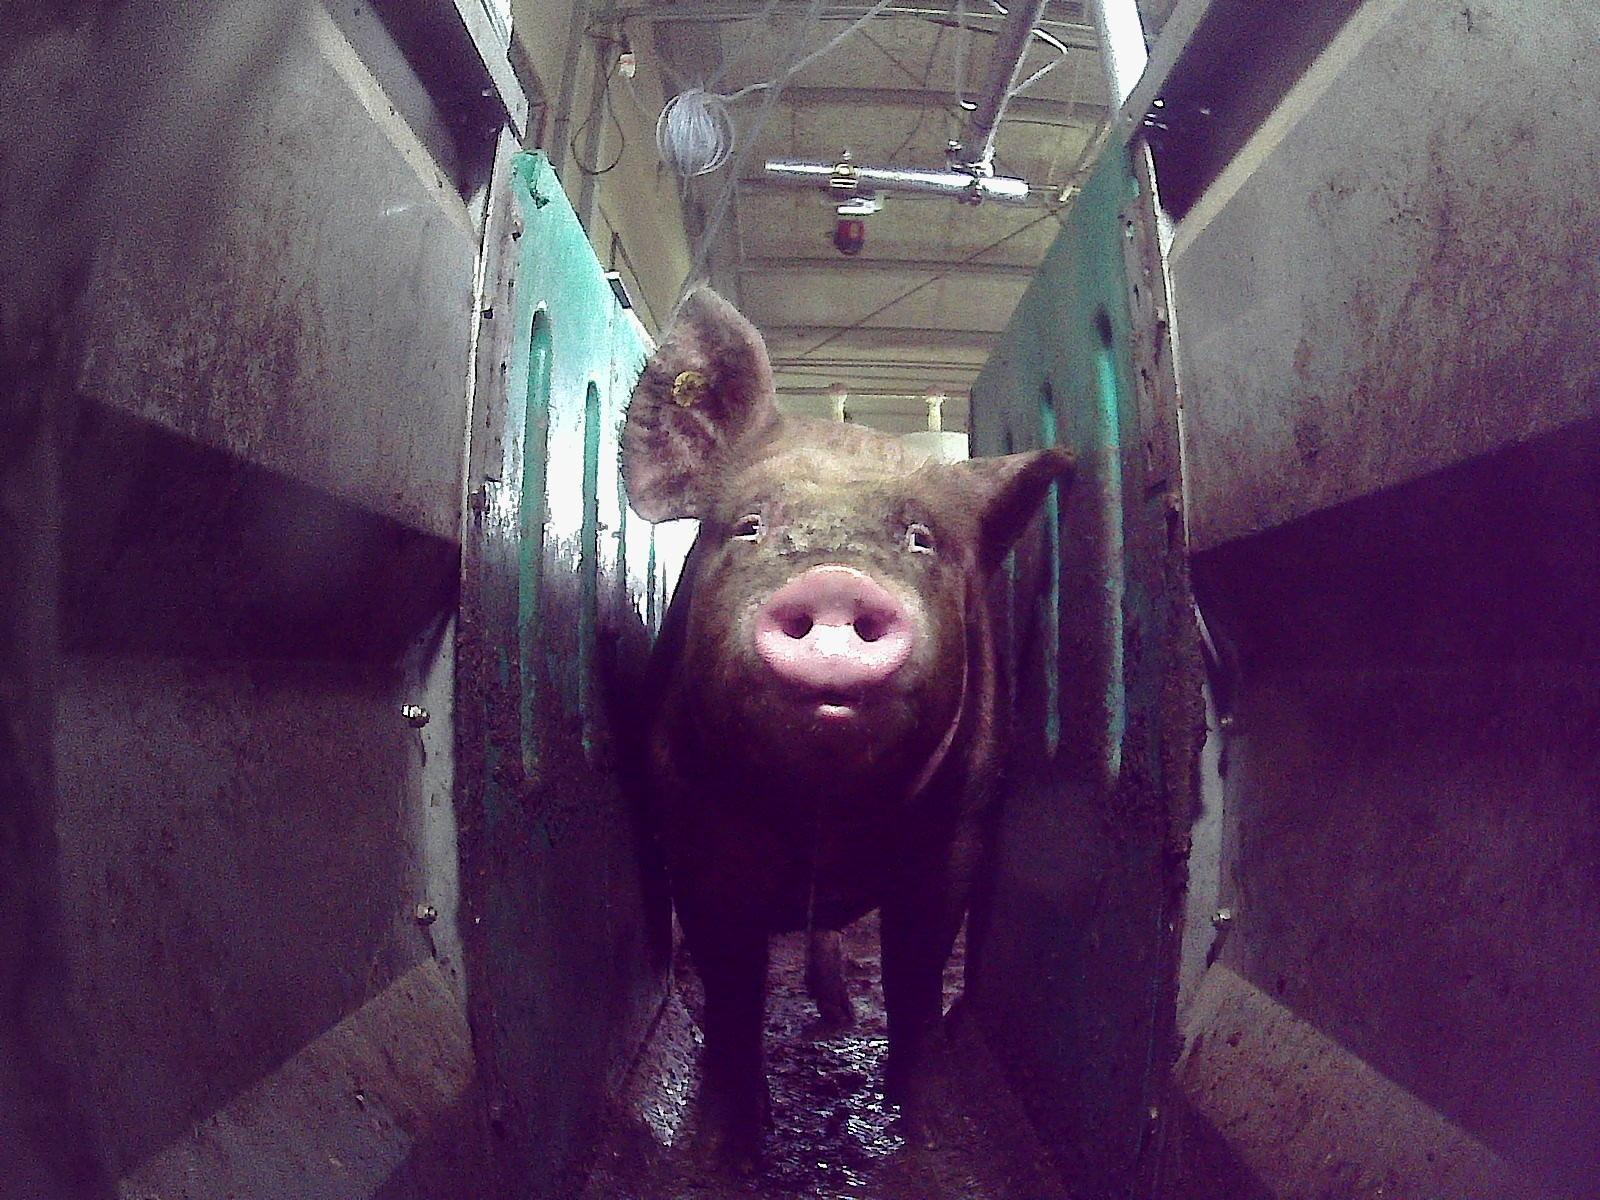Face: (694, 428, 968, 808)
